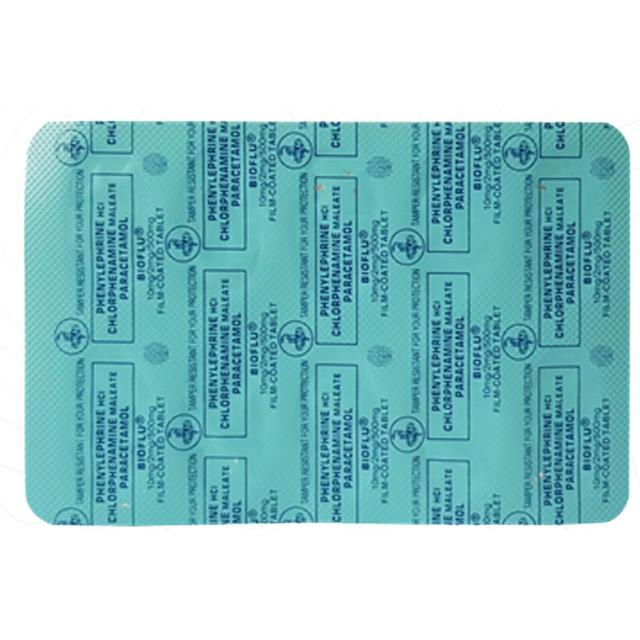blister: (15, 114, 638, 536)
